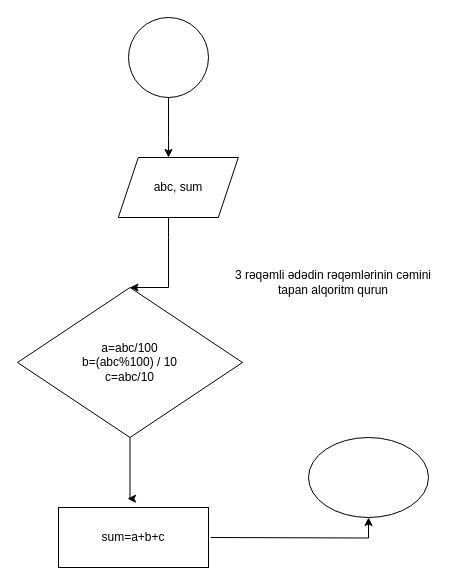
Some shapes in this 456 by 585 pixel diagram are drawn without their labels. Each missing label, with the centre of its shape:
"end" goes at point (368, 477).
"start" goes at point (168, 57).
